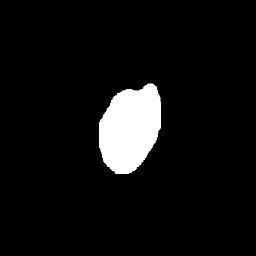mass: (101, 90, 164, 172)
